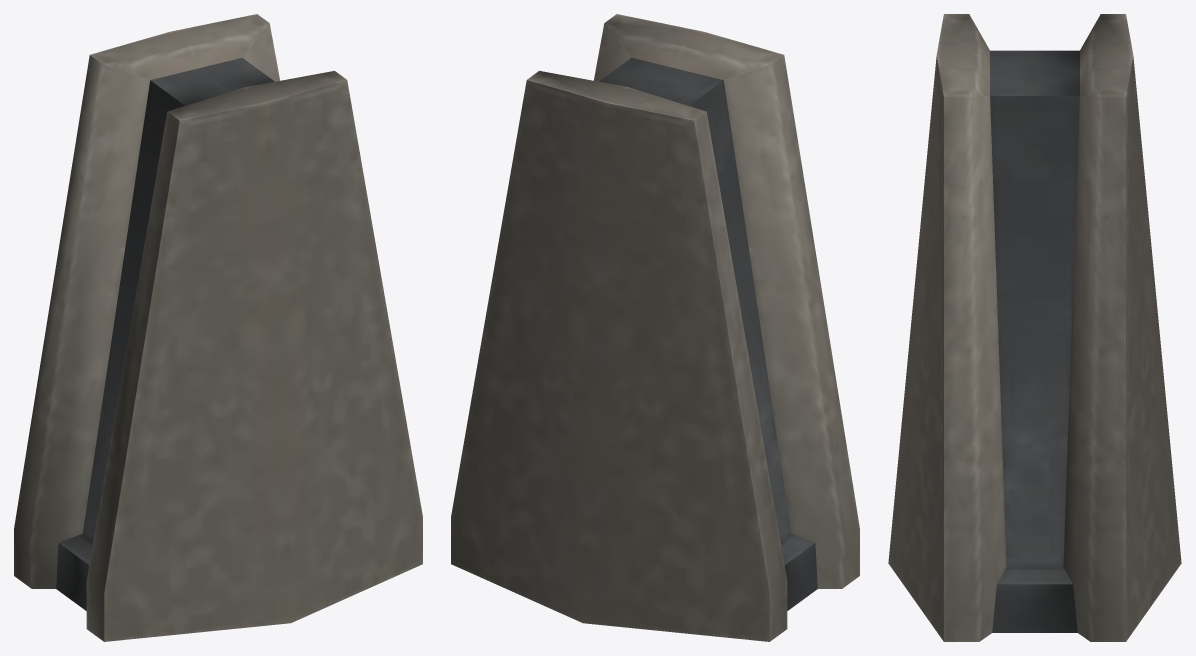
File: Part - Pillar 06-CeosNe3m.glb
3 renders of one model, left to right at view 1: azimuth 30°, elevation 25°; view 2: azimuth 150°, elevation 25°; view 3: azimuth 270°, elevation 25°, orthographic.
Visible parts, largest first — view 1: Pillar_06; view 2: Pillar_06; view 3: Pillar_06.
Boxes of the visible parts, x1,y1,x2,y2 form: Pillar_06: (14, 14, 422, 641); Pillar_06: (451, 14, 859, 641); Pillar_06: (888, 14, 1181, 641).
Size of the model in its own units: 0.6143 by 0.9263 by 0.4844.
1 material, 1 textured.
